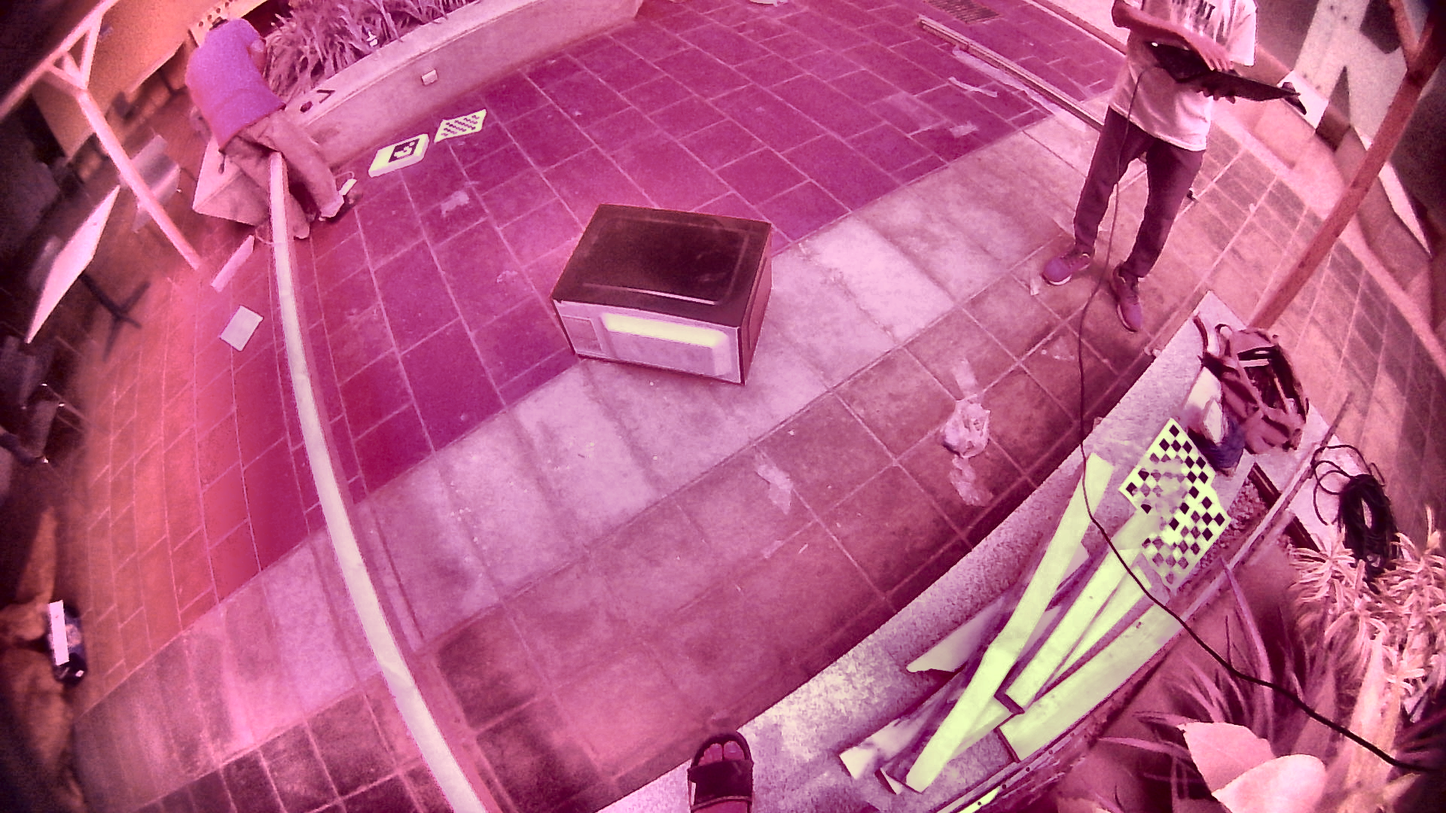MicroWave: (518, 172, 813, 397)
